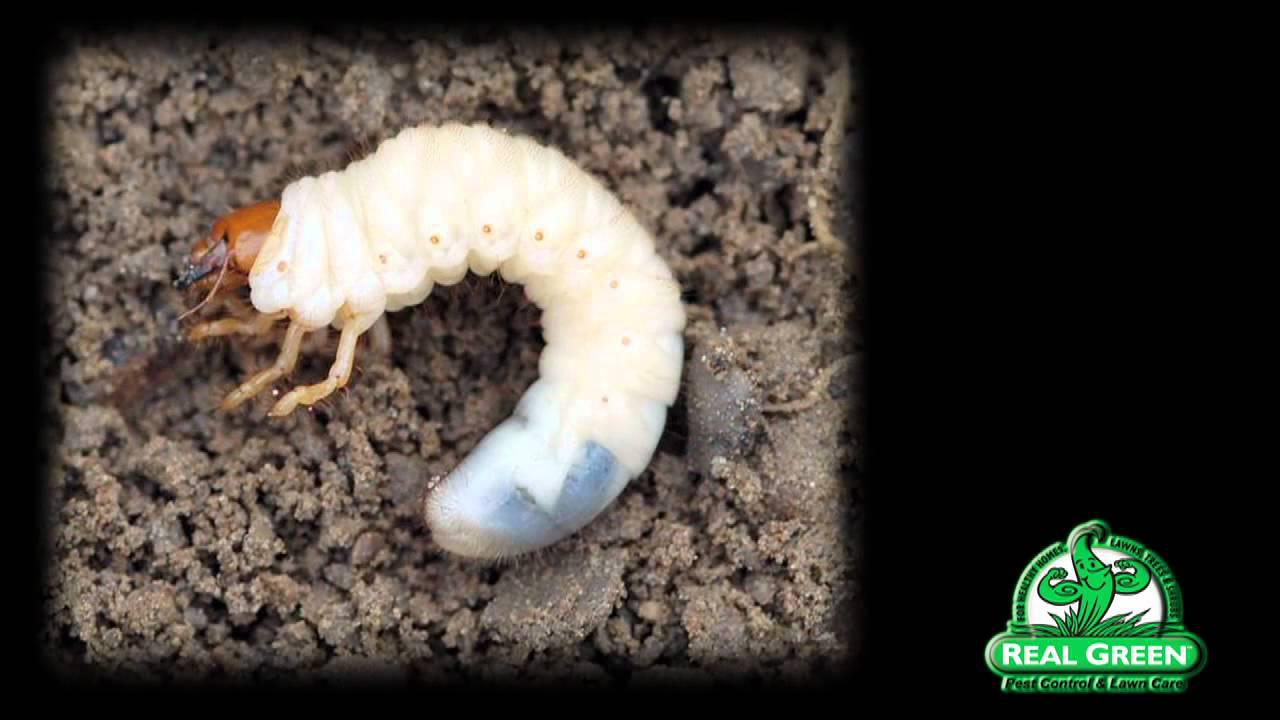grub: (181, 115, 703, 558)
